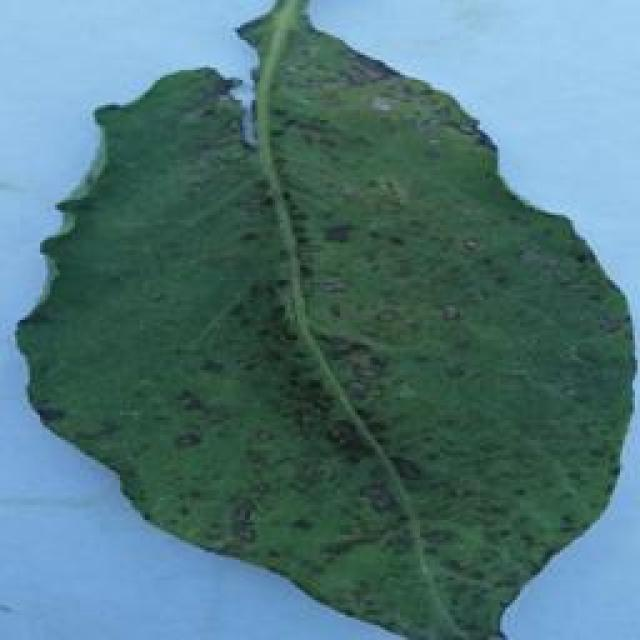Potato_Early_Blight: (5, 8, 635, 633)
